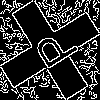P: (25, 25, 81, 77)
